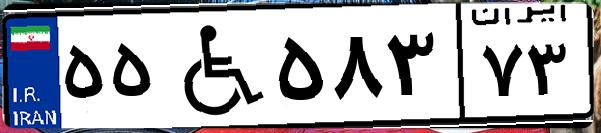3: (385, 28, 445, 110), (525, 38, 570, 115)
5: (270, 28, 330, 110), (57, 26, 110, 100), (110, 28, 158, 98)
7: (475, 38, 525, 113)
8: (330, 28, 385, 110)
ژ (معلولین و جانبازان): (158, 12, 270, 120)
